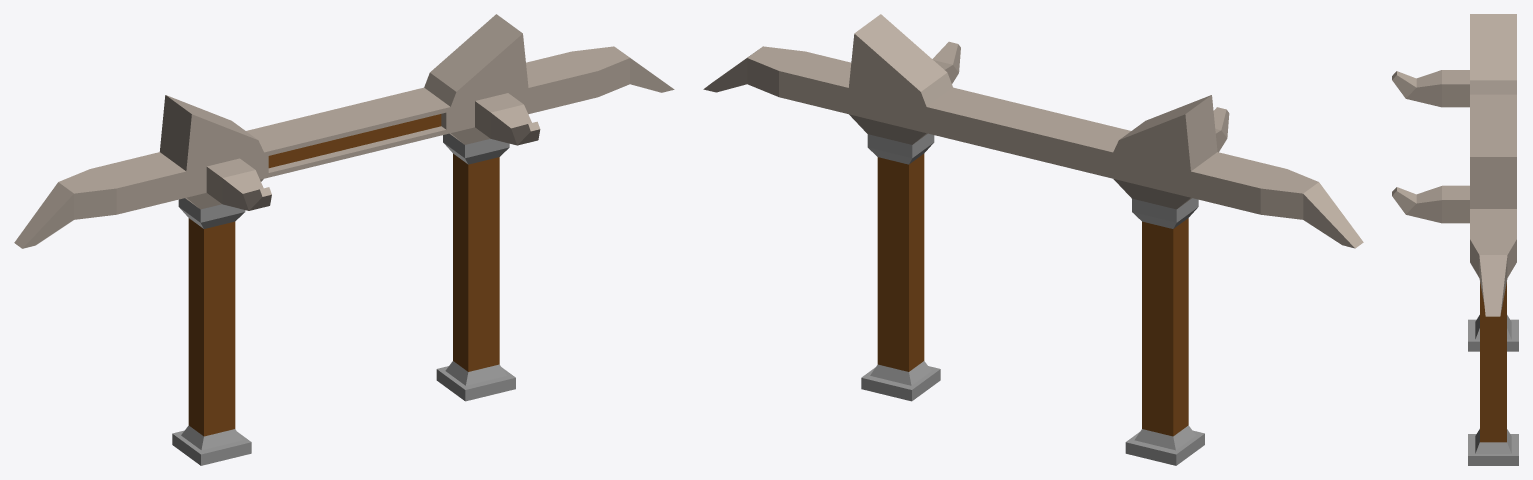
Rendered from Arch.fbx.
3 renders of one model, left to right at view 1: azimuth 30°, elevation 25°; view 2: azimuth 150°, elevation 25°; view 3: azimuth 270°, elevation 25°, orthographic. The views are drawn at different scales.
Visible parts, largest first — view 1: arch; view 2: arch; view 3: arch.
Part boxes in pixels (left/top/right/bottom): arch: left=14, top=14, right=674, bottom=465; arch: left=703, top=14, right=1363, bottom=465; arch: left=1392, top=14, right=1518, bottom=465.
Size of the model in its own units: 1841 by 951 by 350.
